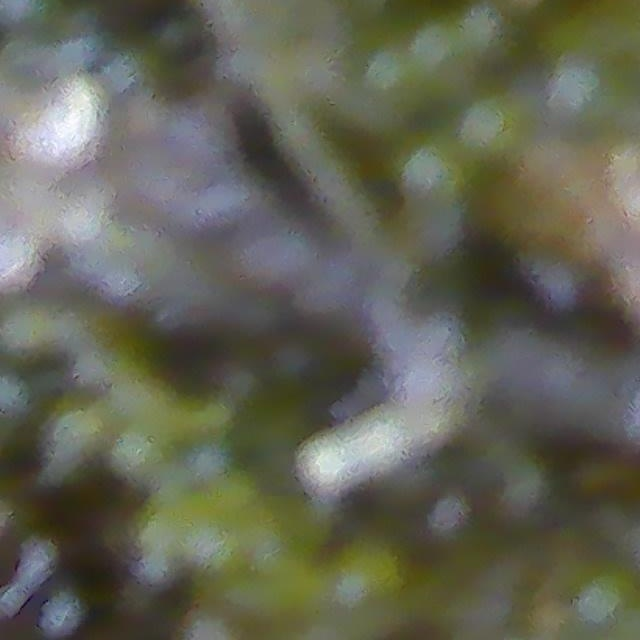SeaGrape: (7, 72, 96, 171), (455, 92, 532, 168)
